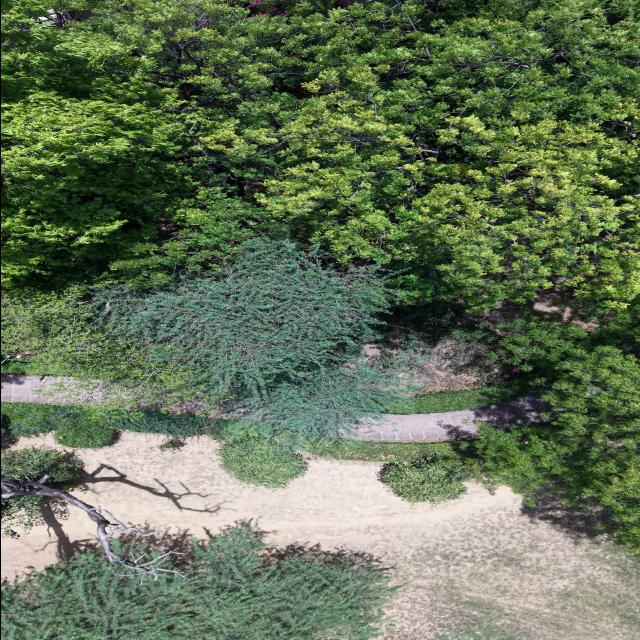DRY_AREA: (75, 431, 639, 639), (345, 394, 547, 440), (346, 394, 548, 440)
VEGETATION_TREE: (1, 0, 639, 550), (3, 0, 638, 305), (236, 0, 638, 306), (3, 239, 411, 442), (94, 240, 410, 438), (457, 299, 639, 553), (1, 524, 398, 639), (1, 526, 397, 639), (458, 342, 639, 553), (458, 413, 639, 553), (1, 285, 194, 405), (1, 473, 184, 583), (377, 300, 519, 393), (1, 402, 229, 447), (310, 440, 466, 502), (387, 376, 536, 413), (1, 402, 118, 447), (380, 300, 487, 348), (218, 436, 307, 488), (379, 454, 466, 503), (310, 439, 457, 462), (109, 409, 228, 437), (1, 448, 82, 488), (55, 411, 116, 447), (436, 621, 517, 639), (157, 436, 185, 450)
